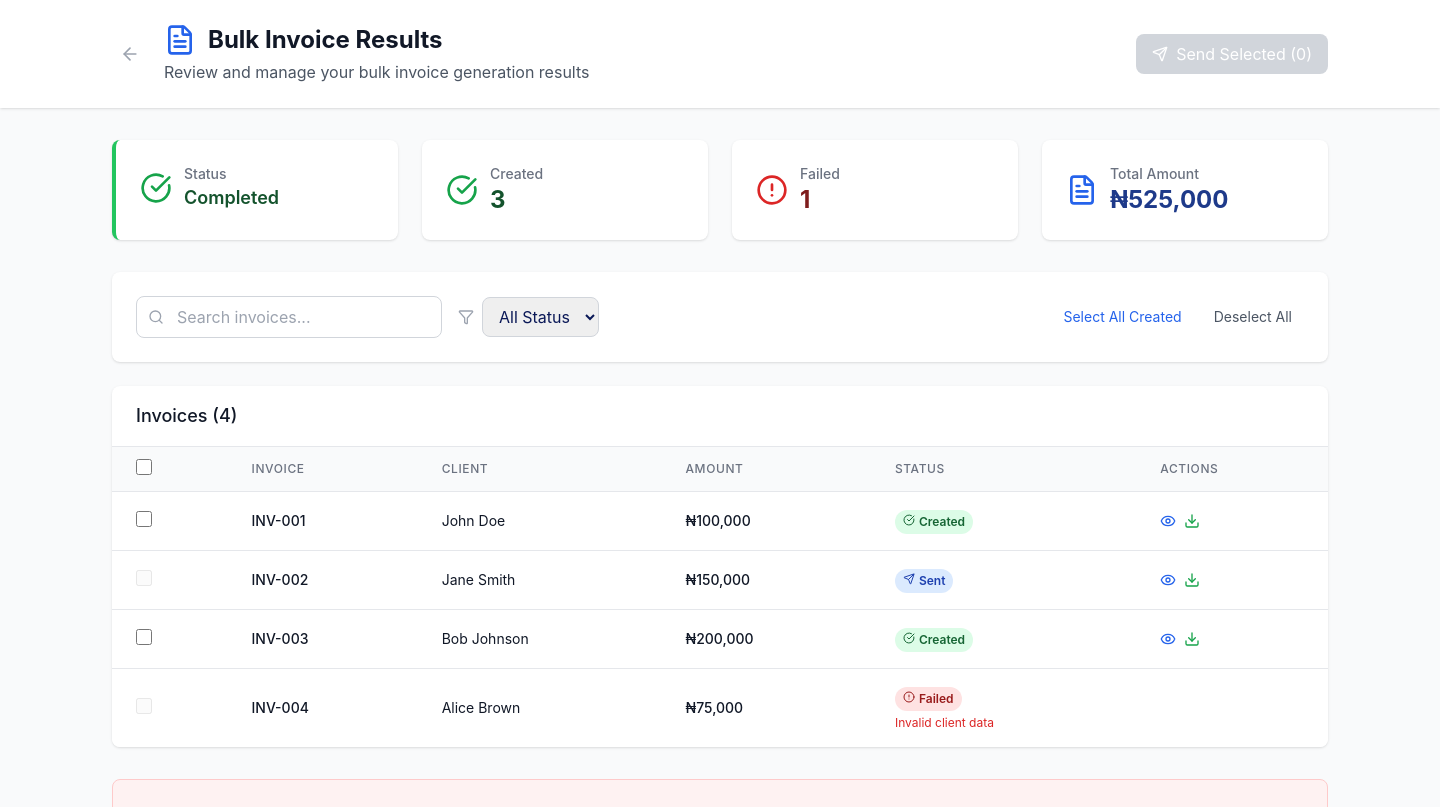
BulkInvoiceResults › selects and deselects invoices for bulk operations
This screenshot has width=1440, height=807.
// Click on individual invoice checkbox
Click the checkbox next to "INV-001": (144, 519) x1=136 y1=511 x2=152 y2=527
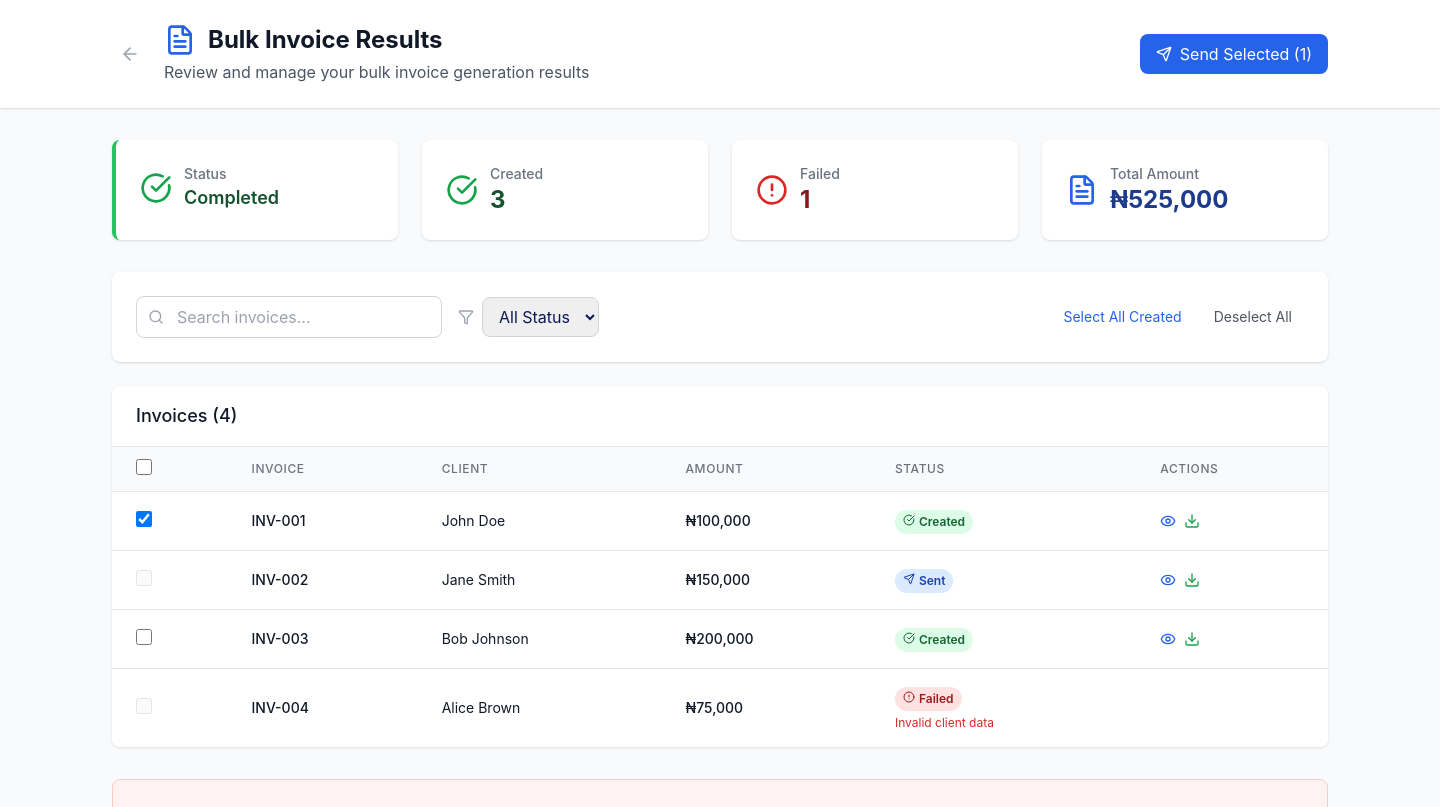
Expected: the button "Send Selected (1)" is shown, x1=1140 y1=34 x2=1328 y2=74
